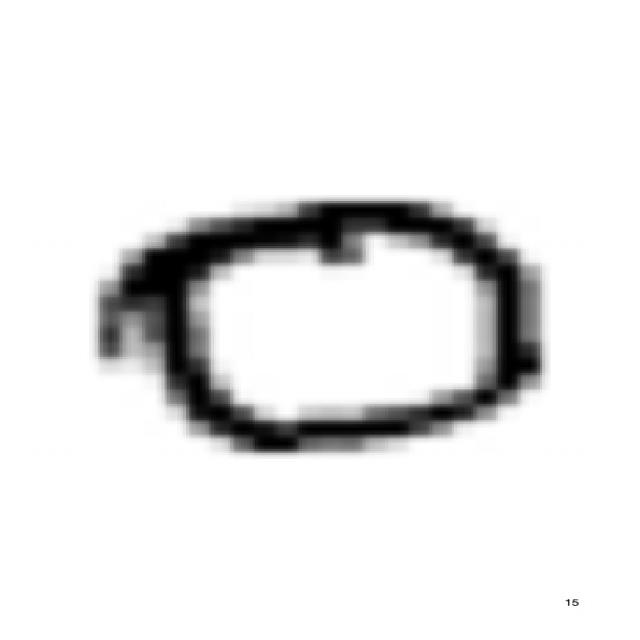5 -five-: (80, 186, 560, 465)
